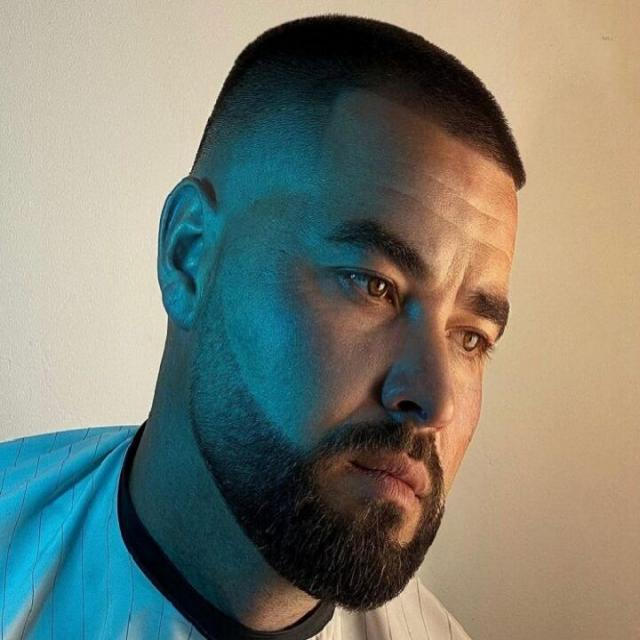beard: (191, 377, 470, 640)
hair: (193, 14, 527, 188)
